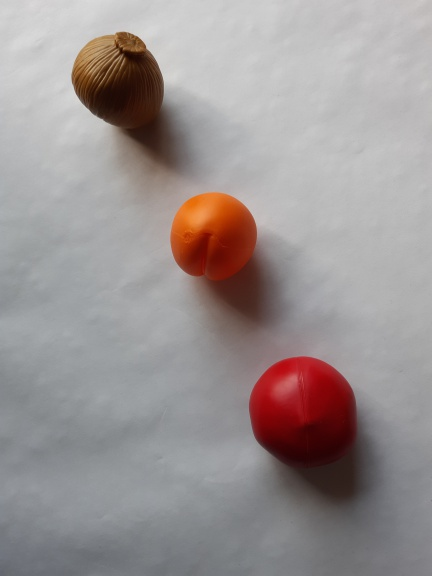apricot: (165, 187, 261, 284)
onion: (69, 28, 169, 138)
tomato: (245, 353, 362, 474)
